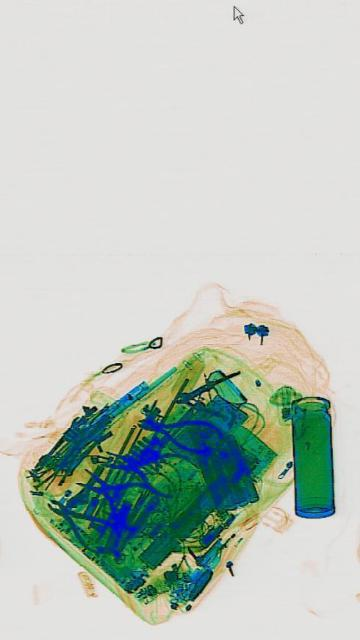Pliers: (70, 446, 159, 544), (97, 432, 187, 502), (42, 480, 111, 560), (134, 400, 220, 462)
